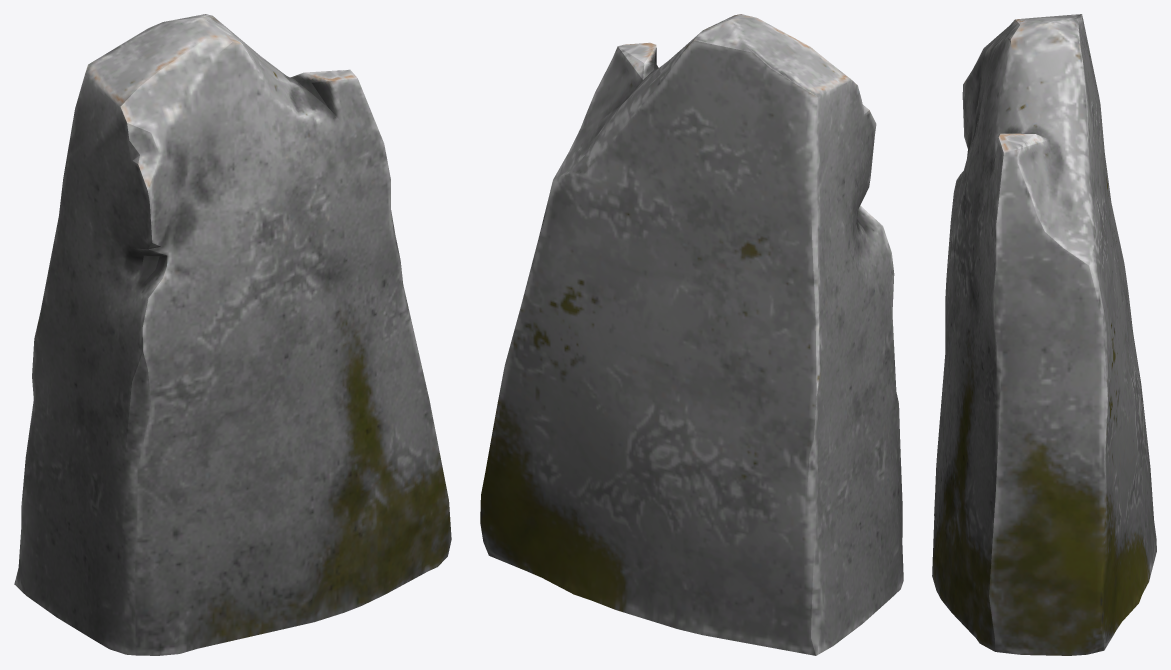
File: runesten.fbx
The picture shows the model from 3 angles, left to right: view 1: azimuth 30°, elevation 25°; view 2: azimuth 150°, elevation 25°; view 3: azimuth 270°, elevation 25°; orthographic projection. The views are drawn at different scales.
Parts seen in each view (by area): view 1: renderMesh0; view 2: renderMesh0; view 3: renderMesh0.
Boxes of the visible parts, bbox=[...] form: renderMesh0: bbox=[14, 14, 451, 655]; renderMesh0: bbox=[480, 14, 903, 655]; renderMesh0: bbox=[932, 14, 1156, 655].
Bounding box in the file's own units: 156 × 232 × 89.33.
